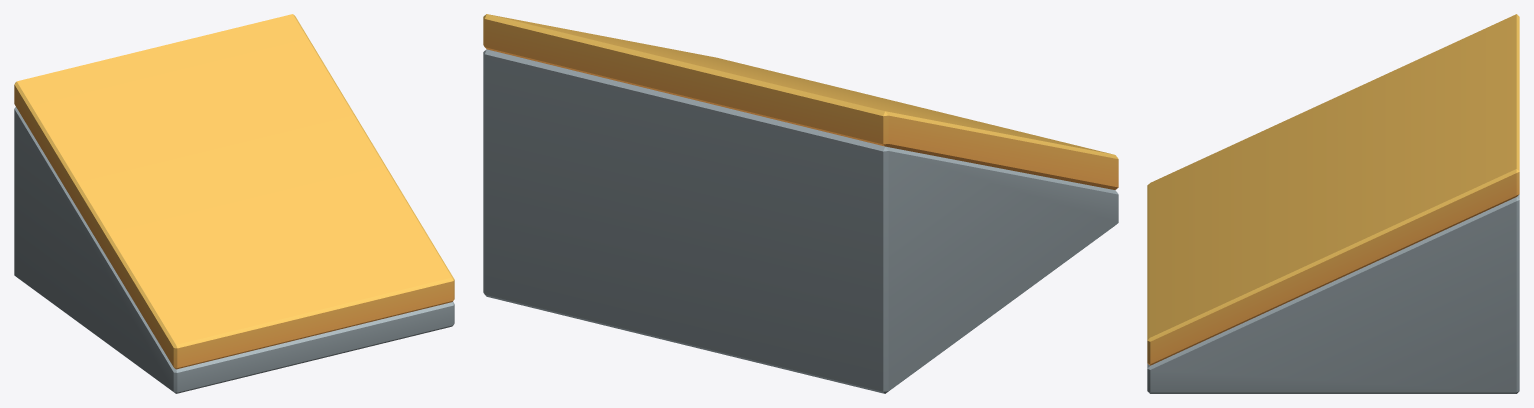
File: platform_slope_6x6x4_yellow.glb
The picture shows the model from 3 angles, left to right: view 1: azimuth 30°, elevation 25°; view 2: azimuth 150°, elevation 25°; view 3: azimuth 270°, elevation 25°; orthographic projection. The views are drawn at different scales.
Visible parts, largest first — view 1: platform_slope_6x6x4_yellow; view 2: platform_slope_6x6x4_yellow; view 3: platform_slope_6x6x4_yellow.
Part boxes in pixels (left/top/right/bottom): platform_slope_6x6x4_yellow: left=14, top=14, right=454, bottom=393; platform_slope_6x6x4_yellow: left=483, top=14, right=1118, bottom=393; platform_slope_6x6x4_yellow: left=1147, top=14, right=1519, bottom=393.
Size of the model in its own units: 6 by 4 by 6.
Materials: 1 (1 with a texture image).
